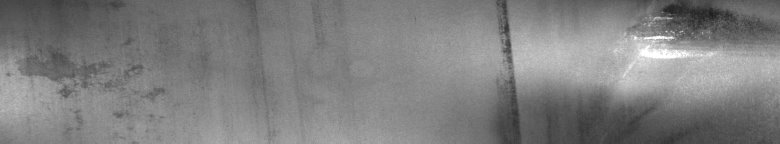ke: (644, 4, 743, 56)
